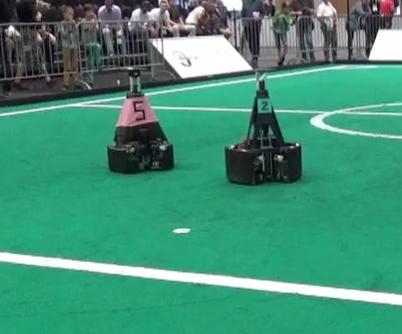robot: (221, 65, 304, 186), (102, 67, 178, 174)
